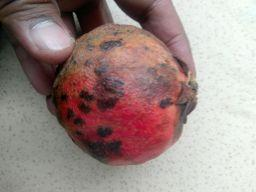pomegranate: (46, 23, 198, 166)
